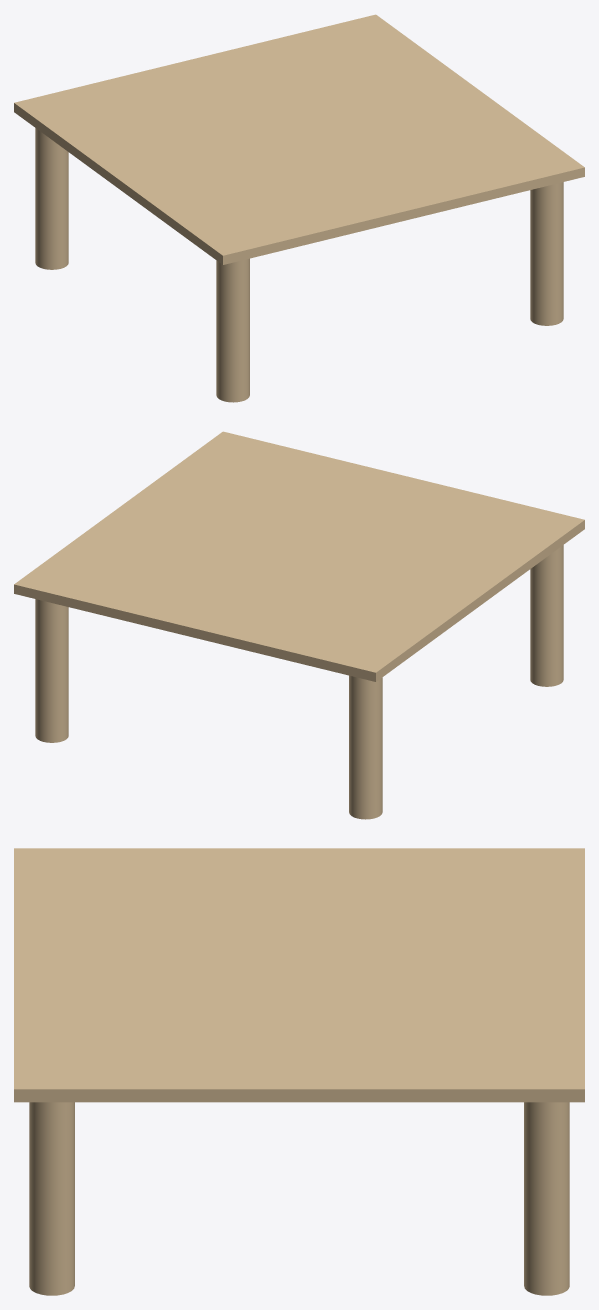
Rendered from ikea-vihals-70508672-g2-proxy.glb.
3 views of the same model, one above another, from view 1: azimuth 30°, elevation 25°; view 2: azimuth 150°, elevation 25°; view 3: azimuth 270°, elevation 25° (orthographic). The views are drawn at different scales.
Visible parts, largest first — view 1: proxy_body, leg (×3); view 2: proxy_body, leg (×3); view 3: proxy_body, leg (×2).
Part boxes in pixels (x1,y1,x2,y2): proxy_body: [14, 14, 584, 264]; leg (×3): [35, 128, 563, 402]; proxy_body: [14, 431, 584, 681]; leg (×3): [35, 545, 563, 819]; proxy_body: [14, 848, 584, 1102]; leg (×2): [29, 1102, 569, 1295].
Size of the model in its own units: 0.9 by 0.37 by 0.9.
